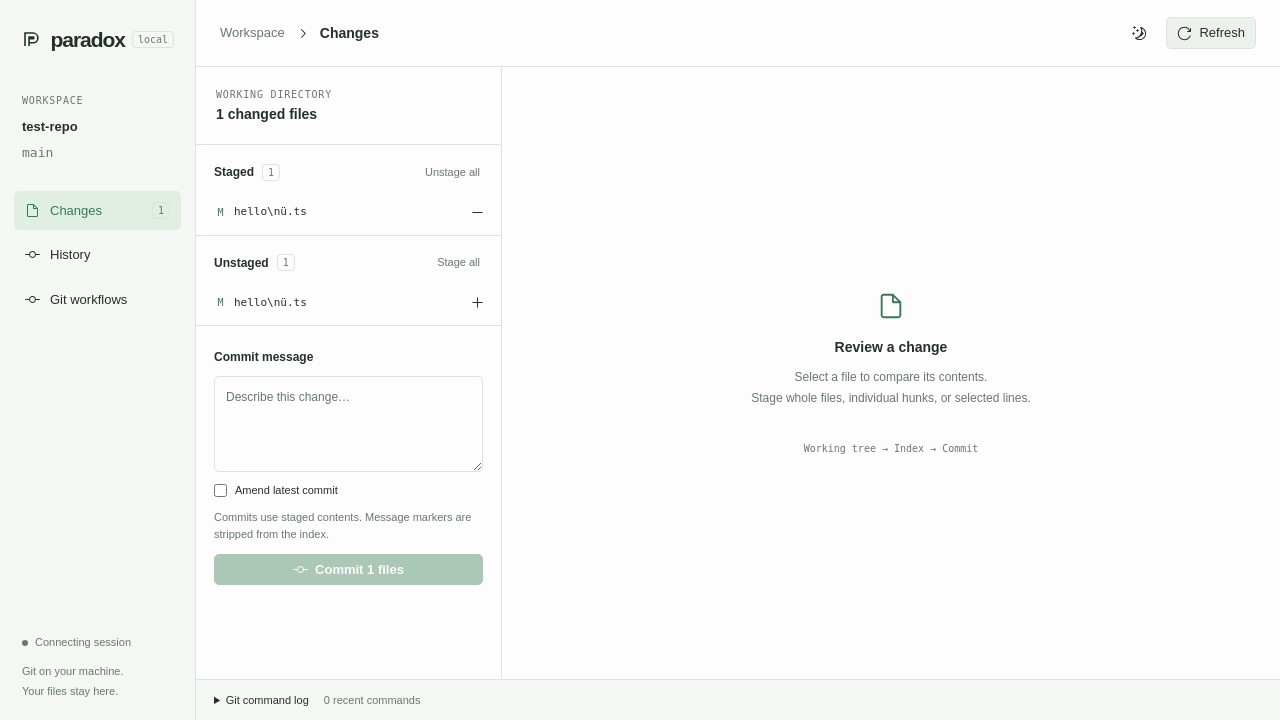
Test: Workspace index actions › shows actionable API failures and keeps the draft message
Step 1. Type "Keep my draft" into the text box labelled "Commit message" → (348, 424), box [214, 376, 483, 472]
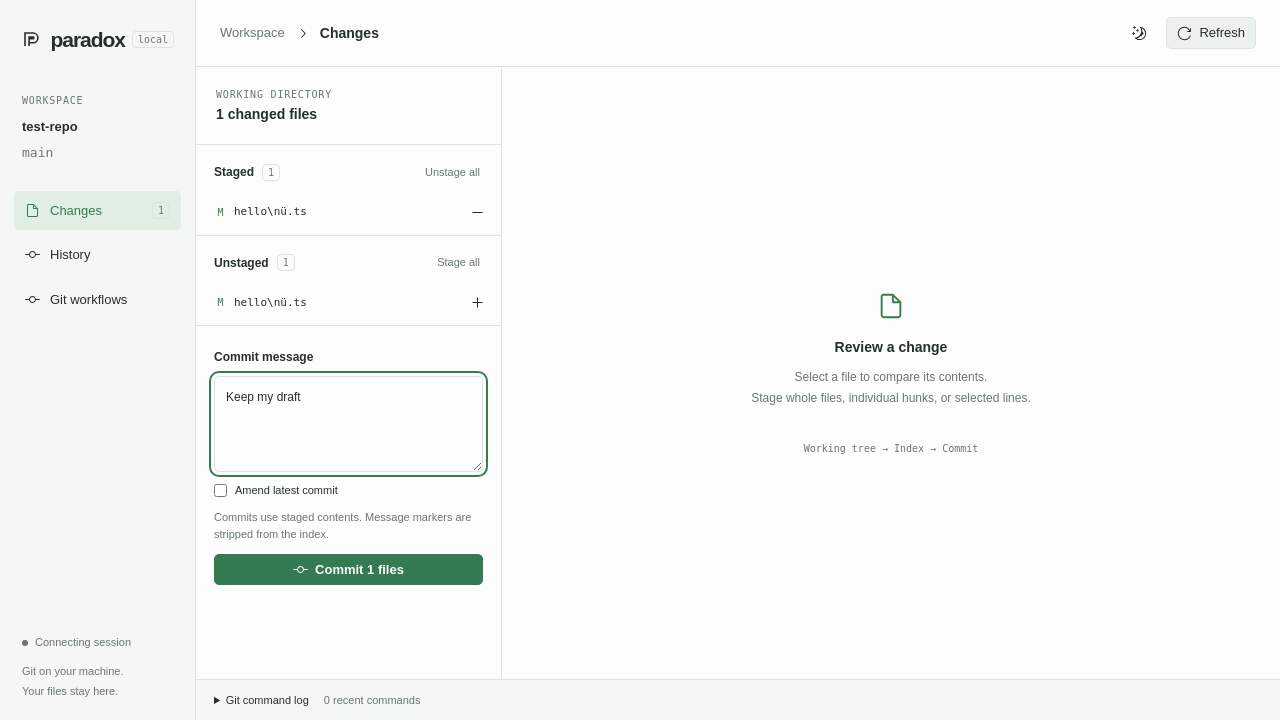
Step 2. Click the button "Commit 1 files" → (348, 569), box [214, 554, 483, 585]
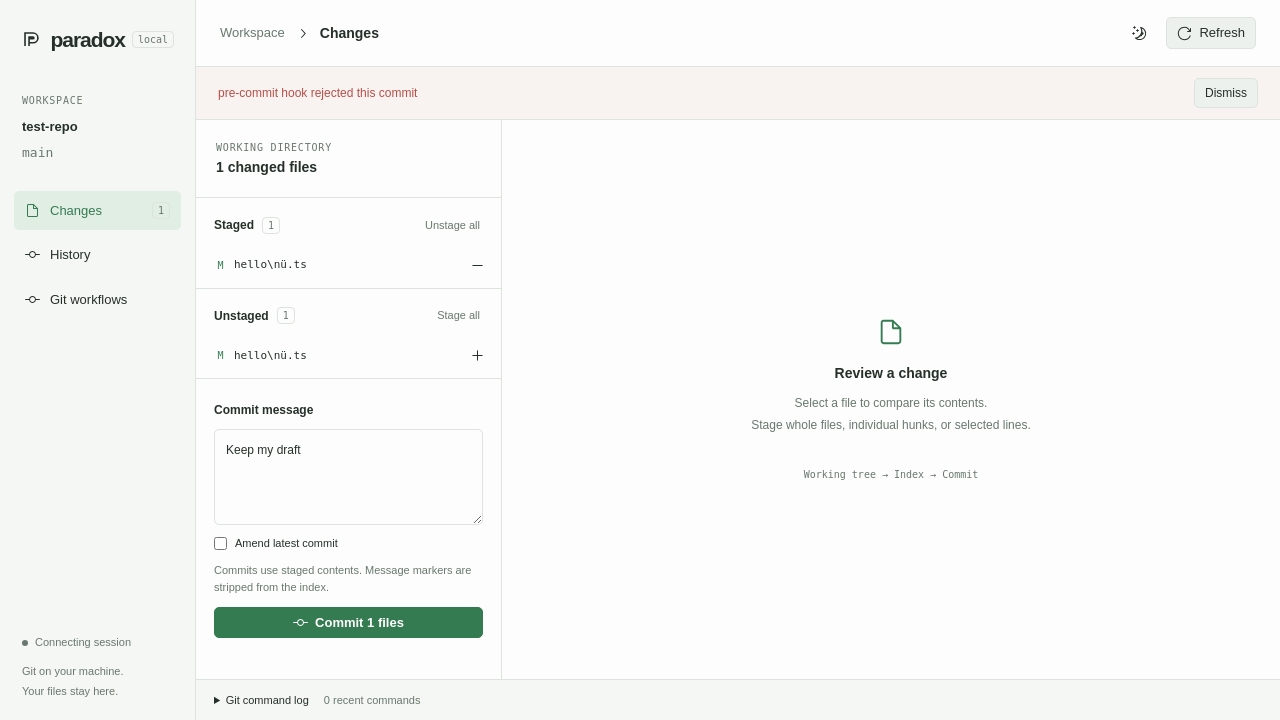
Expected: the message shows "pre-commit hook rejected", [218, 86, 417, 100]
